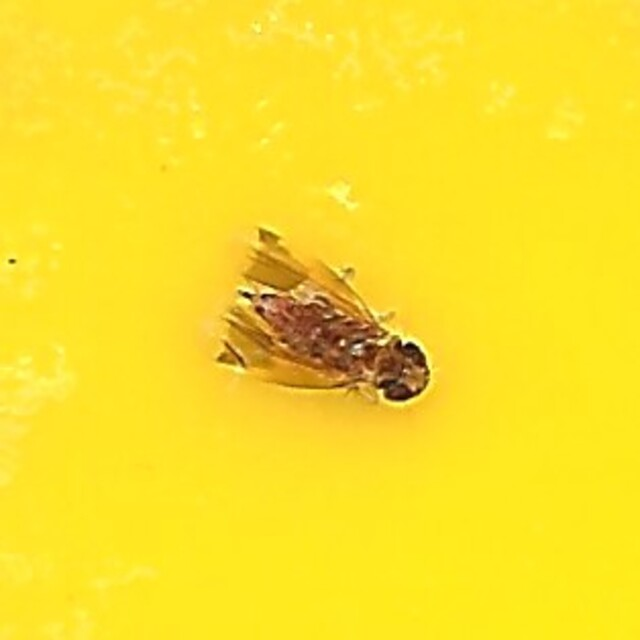Hemiptera: (204, 216, 436, 424)
